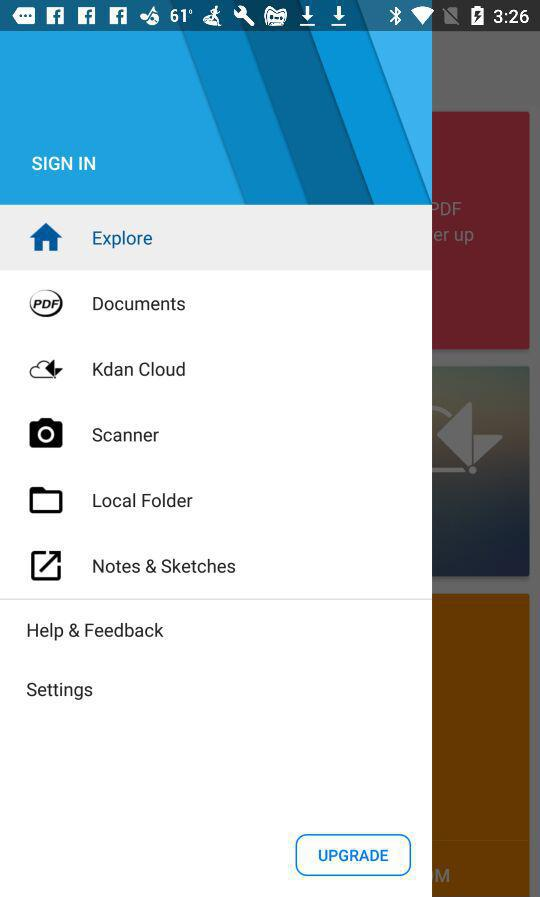Drawer: (1, 32, 432, 897)
Icon: (29, 418, 65, 449), (30, 222, 64, 253), (31, 550, 63, 582), (29, 486, 64, 515), (29, 360, 65, 380)
Image: (29, 289, 65, 319)
Text: (27, 622, 168, 642), (93, 558, 237, 575), (93, 493, 194, 509), (92, 361, 187, 378), (93, 296, 187, 312), (26, 682, 94, 701), (93, 230, 154, 250), (31, 156, 97, 173), (93, 428, 161, 443)
TextButton: (295, 834, 412, 876)
UpperTaskBar: (1, 1, 540, 33)
